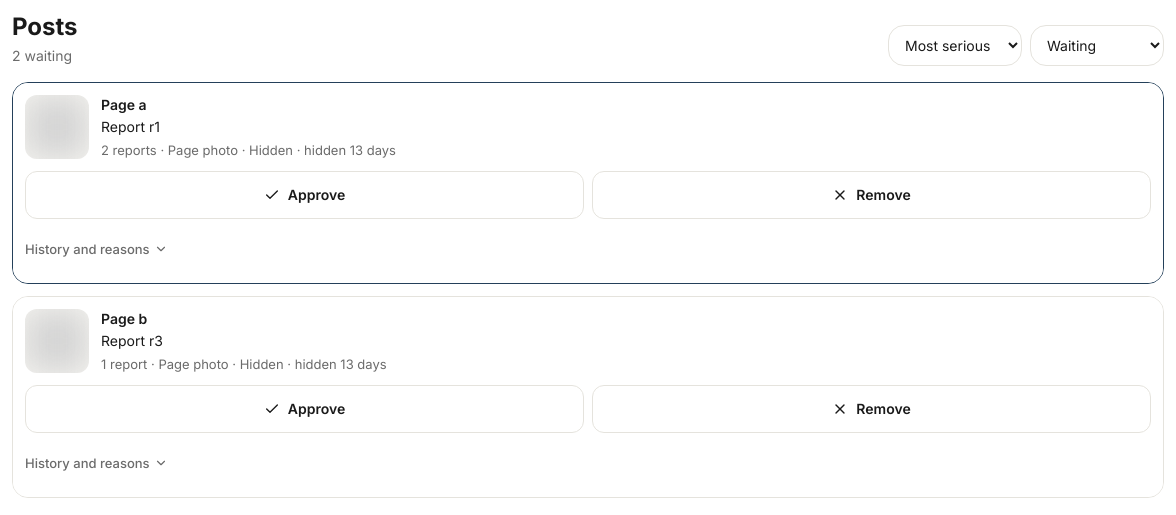
Scenario: F101 — one tap, then a five-second Undo › Approve takes the row away and decides every open report after five seconds, with the default reason
This screenshot has width=1176, height=515.
Click the button with test id "review-approve".
click(304, 195)  # box 25,171 -> 584,219
Wait 5000 ms
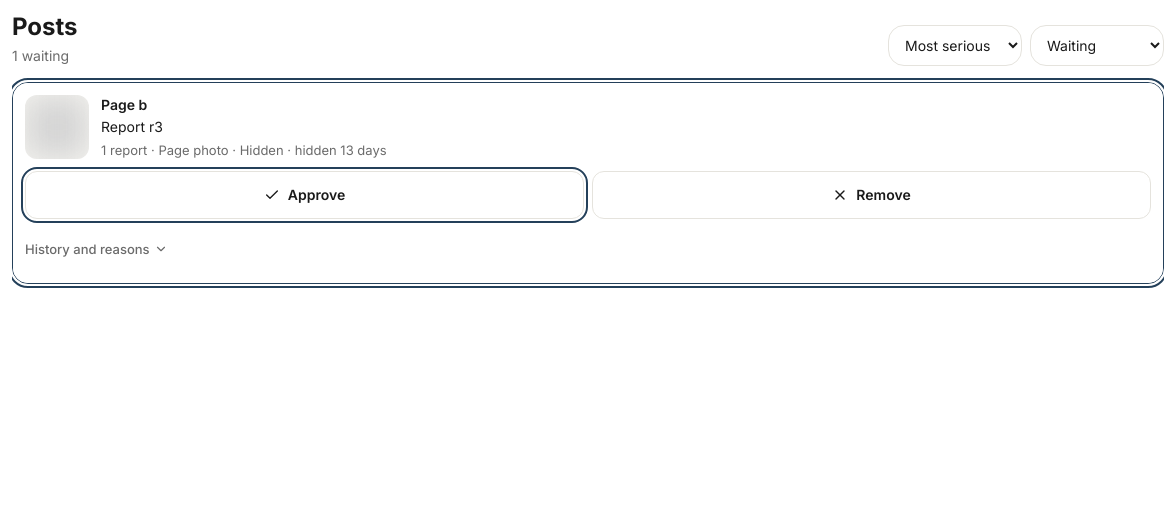
Expected: the number of list items with test id "review-row" is 1, 12,82 -> 1164,284
